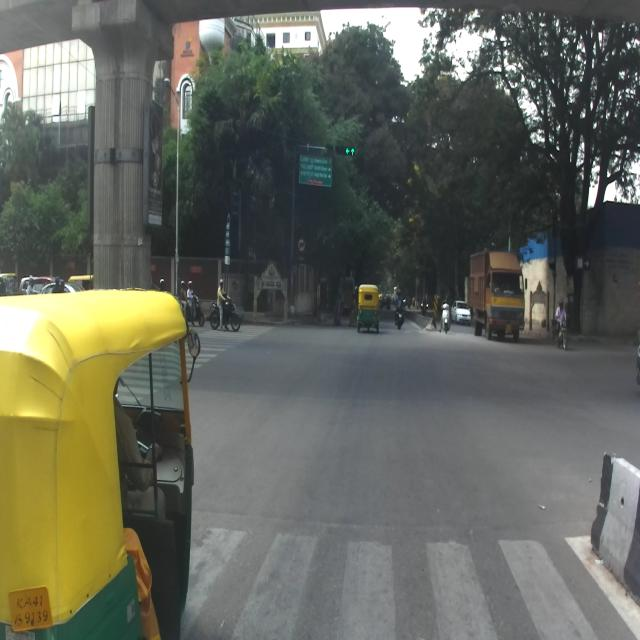auto ahead at: (0, 289, 200, 640)
